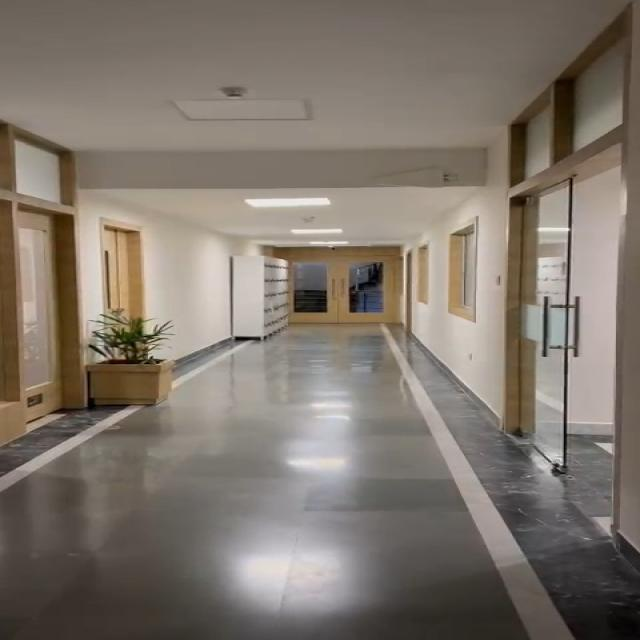door: (507, 73, 640, 516), (0, 116, 92, 439), (241, 226, 445, 320)
floor: (240, 314, 504, 640), (27, 430, 341, 640)
furniture: (70, 313, 195, 423)
